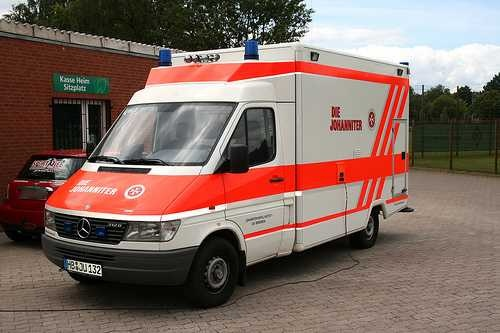Ambulance: (53, 39, 422, 304)
